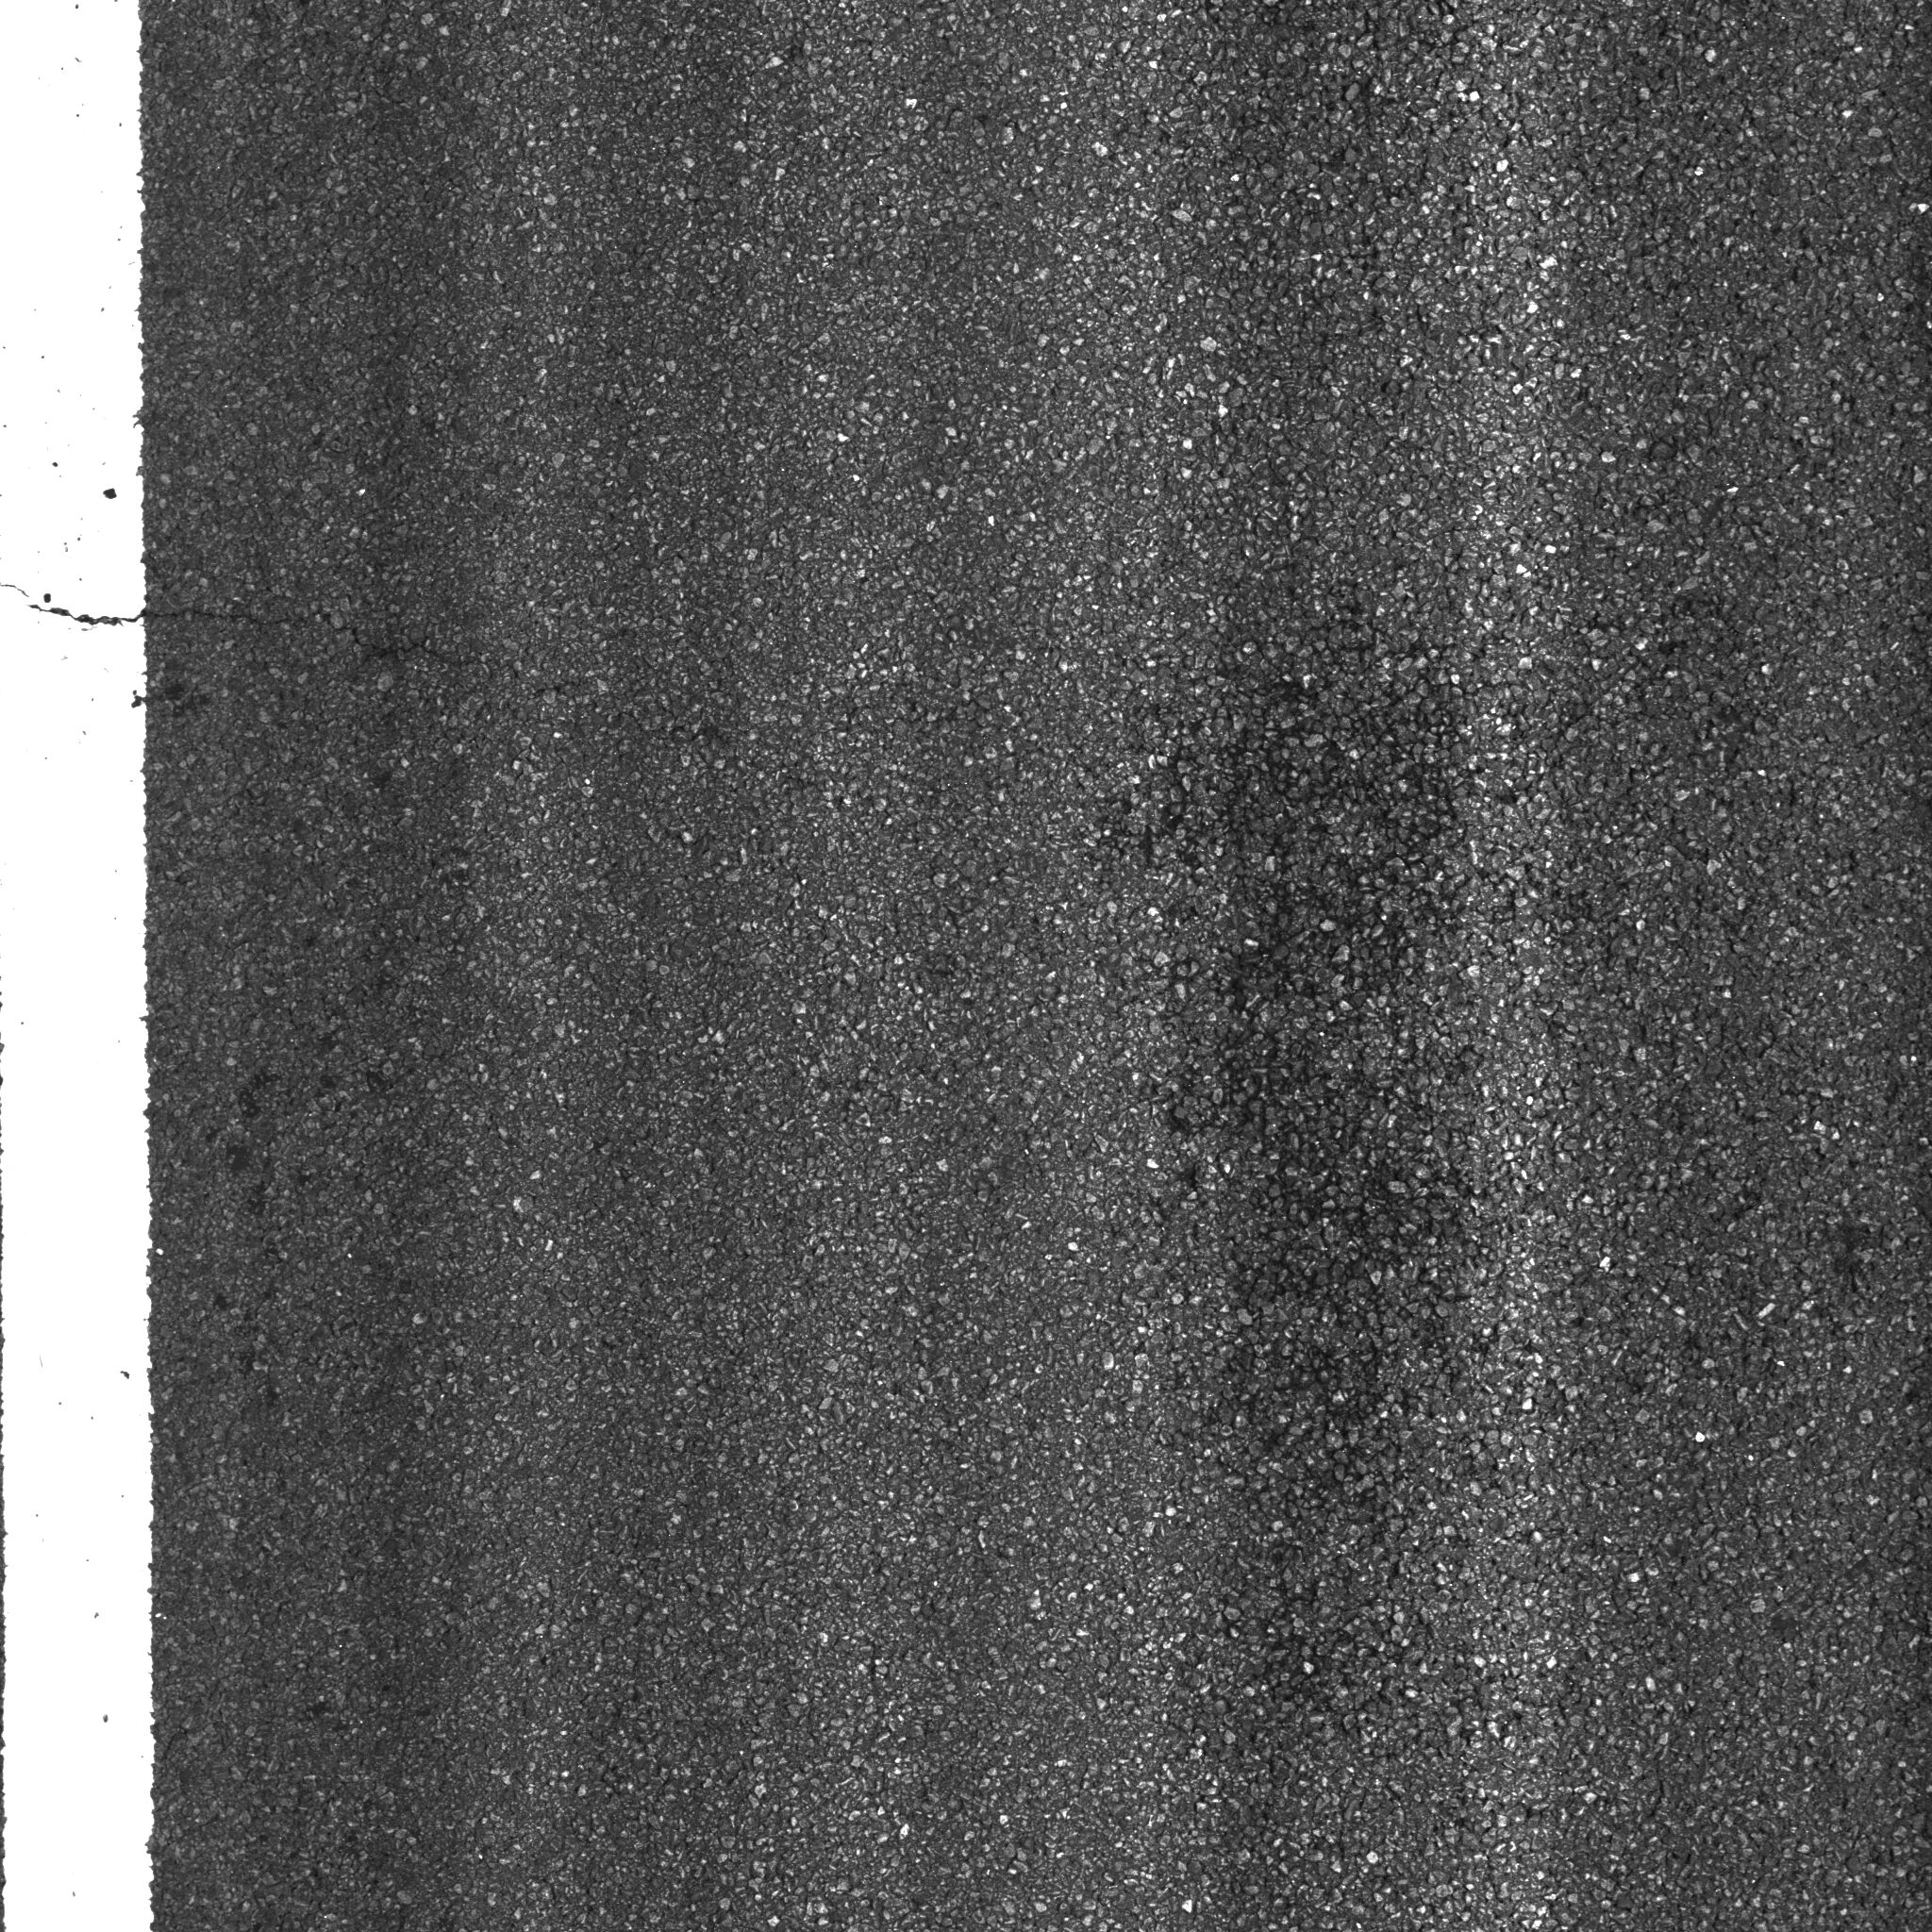transeverse: (5, 566, 577, 708)
